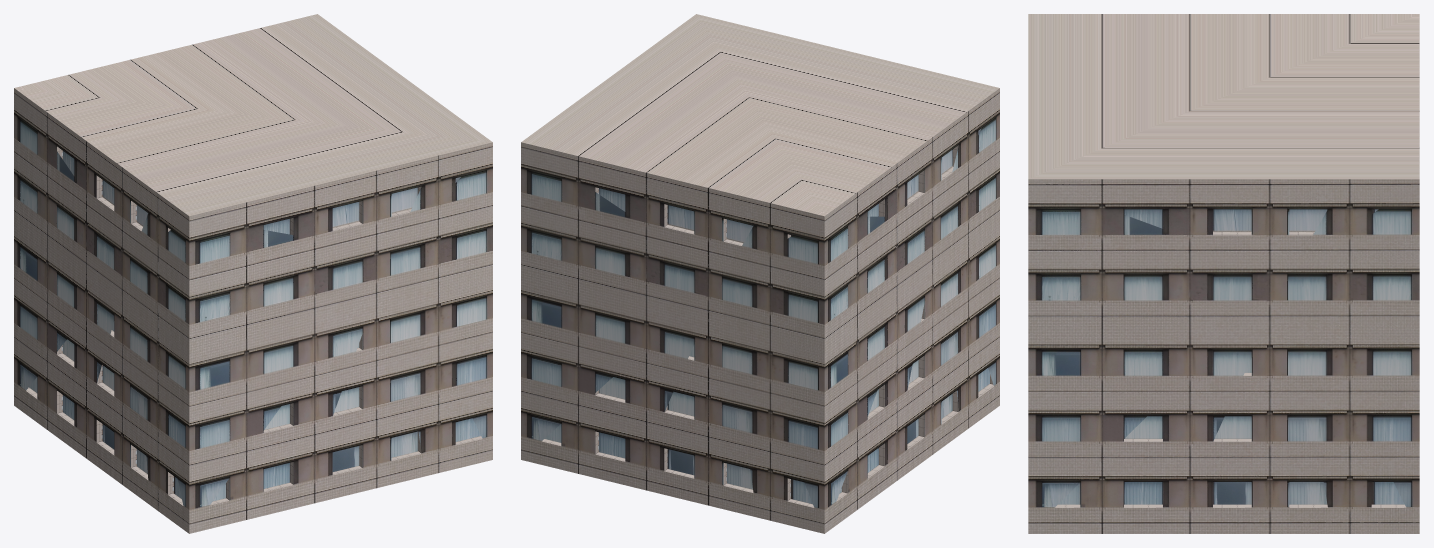
File: BG_Building1.fbx
The picture shows the model from 3 angles, left to right: view 1: azimuth 30°, elevation 25°; view 2: azimuth 150°, elevation 25°; view 3: azimuth 270°, elevation 25°; orthographic projection. The views are drawn at different scales.
Parts seen in each view (by area): view 1: BG_Building1; view 2: BG_Building1; view 3: BG_Building1.
Boxes of the visible parts, x1=… form: BG_Building1: x1=14, y1=14, x2=492, y2=533; BG_Building1: x1=521, y1=14, x2=999, y2=533; BG_Building1: x1=1028, y1=14, x2=1419, y2=533.
Size of the model in its own units: 797 by 797 by 797.
